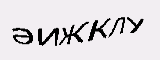В: (83, 4, 98, 33)
Е: (25, 2, 43, 34)
Ж: (50, 1, 82, 31), (100, 12, 120, 34)
Ю: (116, 19, 134, 37)
